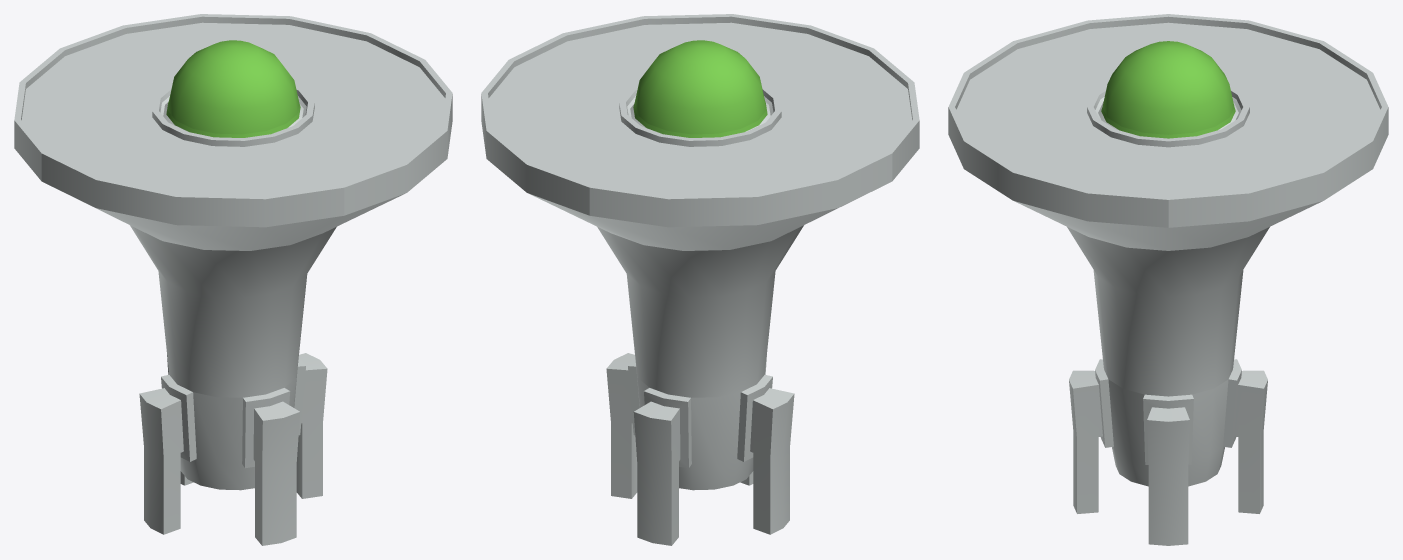
The model's file is MagicalCraft.fbx.
The picture shows the model from 3 angles, left to right: view 1: azimuth 30°, elevation 25°; view 2: azimuth 150°, elevation 25°; view 3: azimuth 270°, elevation 25°; orthographic projection.
Visible parts, largest first — view 1: MagicalCraft; view 2: MagicalCraft; view 3: MagicalCraft.
Part boxes in pixels (x1,y1,x2,y2): MagicalCraft: [14, 14, 452, 545]; MagicalCraft: [481, 14, 919, 545]; MagicalCraft: [948, 14, 1388, 545].
Bounding box in the file's own units: 100 × 115 × 100.
